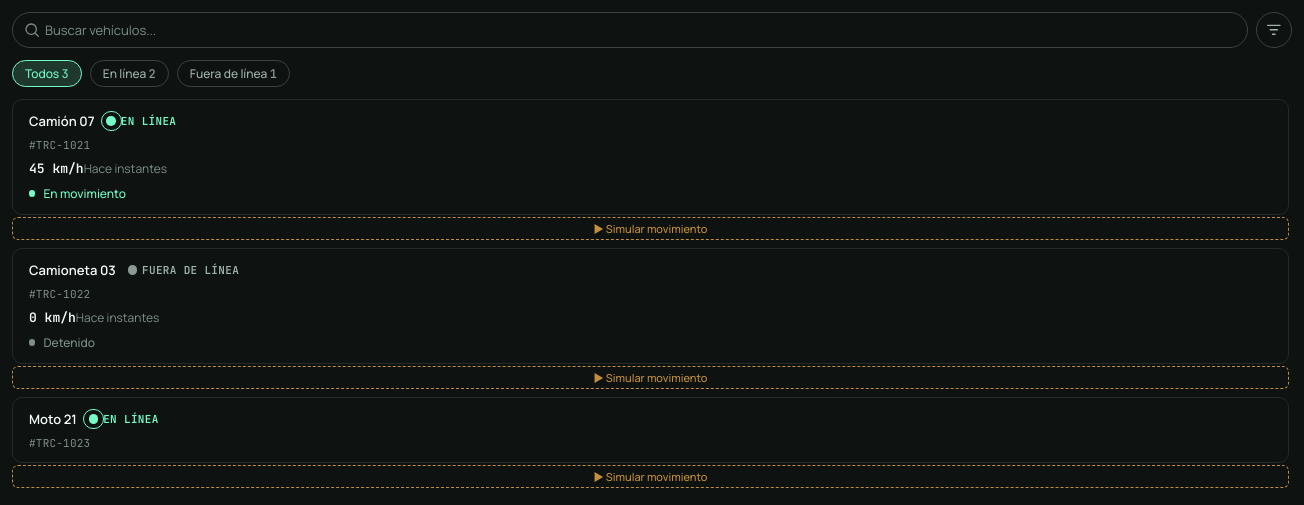
Test case: <DeviceListPanel /> › filtra por texto de búsqueda, sin distinguir mayúsculas/minúsculas
The image size is (1304, 505).
Type "MOTO" into the search field labelled "Buscar vehículos" at (630, 30), box x1=12 y1=12 x2=1248 y2=48
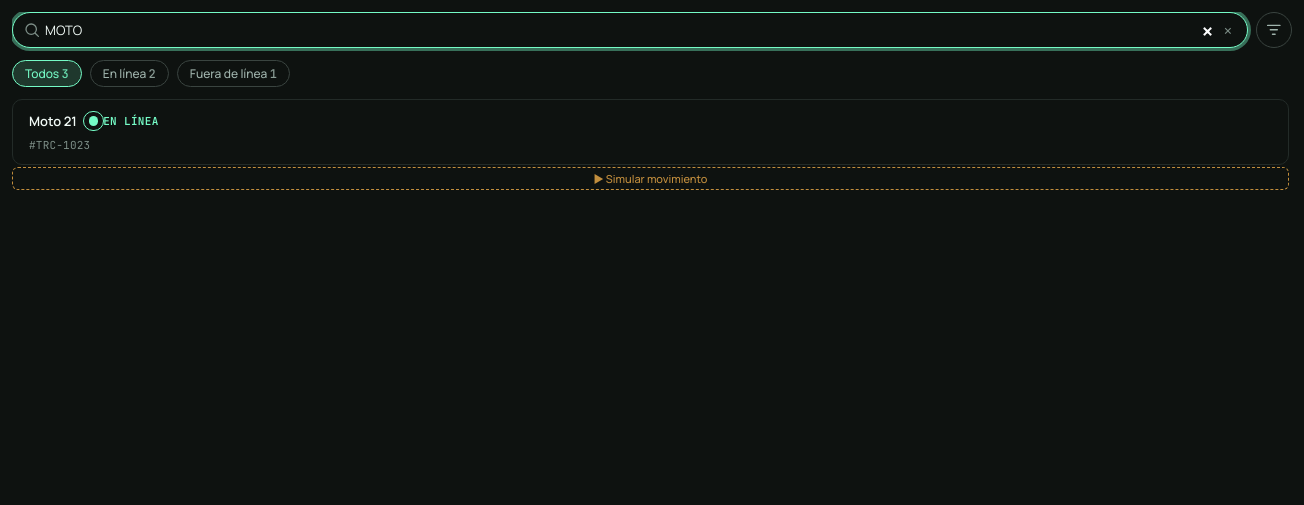
Check: the text "Moto 21" is shown, box x1=29 y1=112 x2=77 y2=130
Check: the button "Camión 07" is gone
